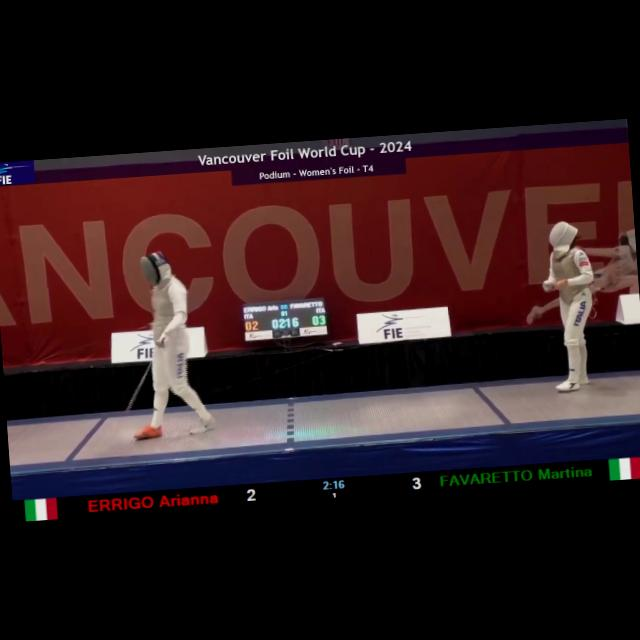blade: (113, 338, 171, 429)
